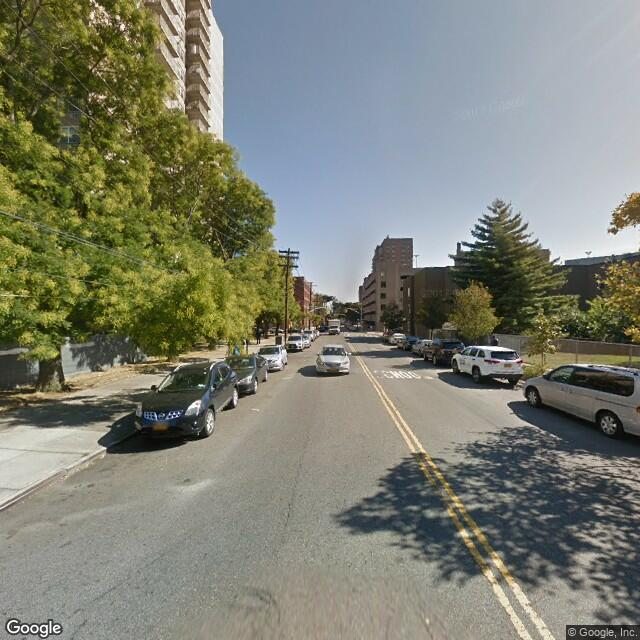litter: (252, 406, 261, 414)
